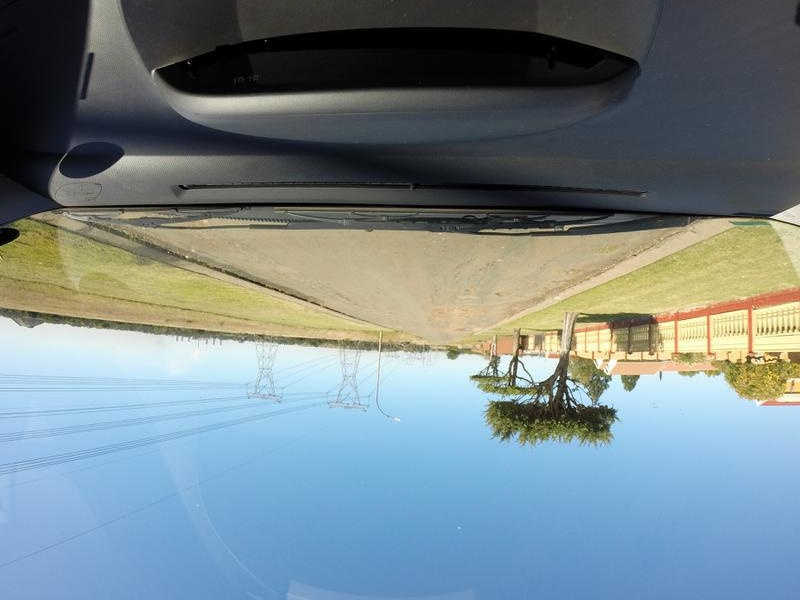pothole: (436, 307, 482, 317), (462, 288, 478, 299), (494, 291, 508, 296)
